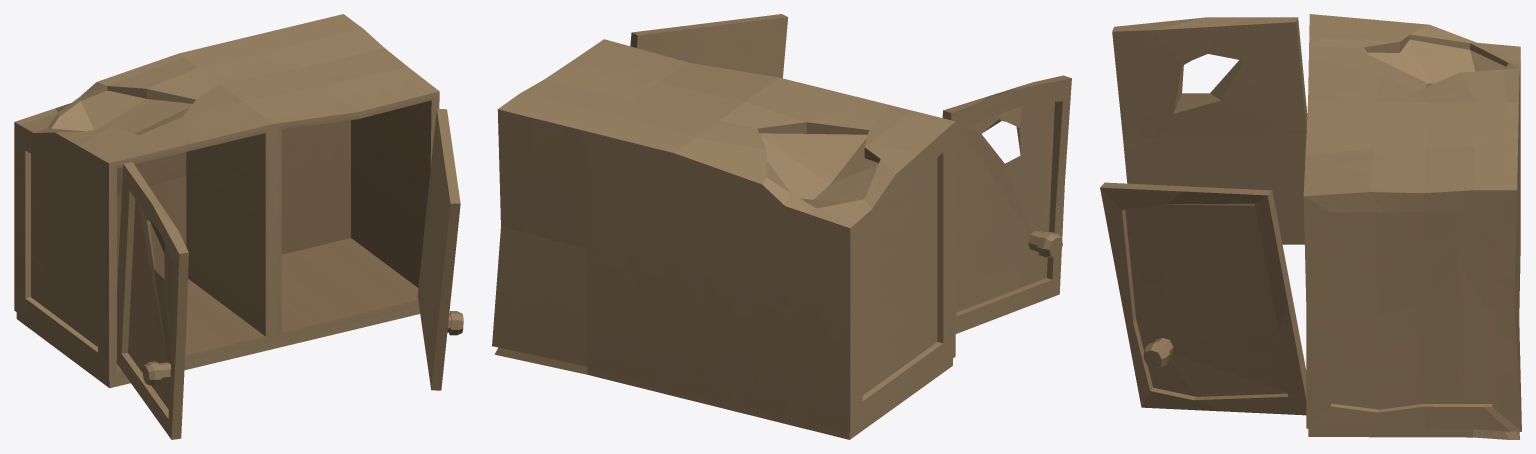
The model's file is shelf_3.glb.
3 views of the same model, side by side, from view 1: azimuth 30°, elevation 25°; view 2: azimuth 150°, elevation 25°; view 3: azimuth 270°, elevation 25° (orthographic). The views are drawn at different scales.
Visible parts, largest first — view 1: shelf_3; view 2: shelf_3; view 3: shelf_3.
Boxes of the visible parts, x1,y1,x2,y2 form: shelf_3: (14,14,463,439); shelf_3: (492,14,1071,439); shelf_3: (1100,14,1521,439).
Size of the model in its own units: 0.8319 by 0.5164 by 0.7652.
Materials: 1 (1 with a texture image).
